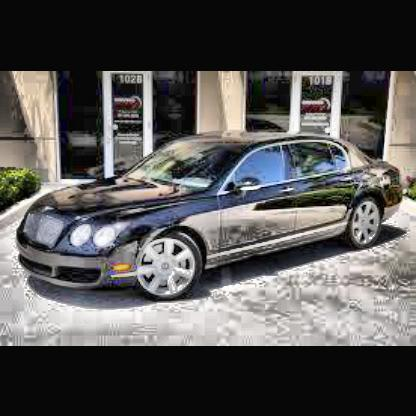Bentley Continental Flying Spur Sedan 2007: (14, 129, 410, 305)
